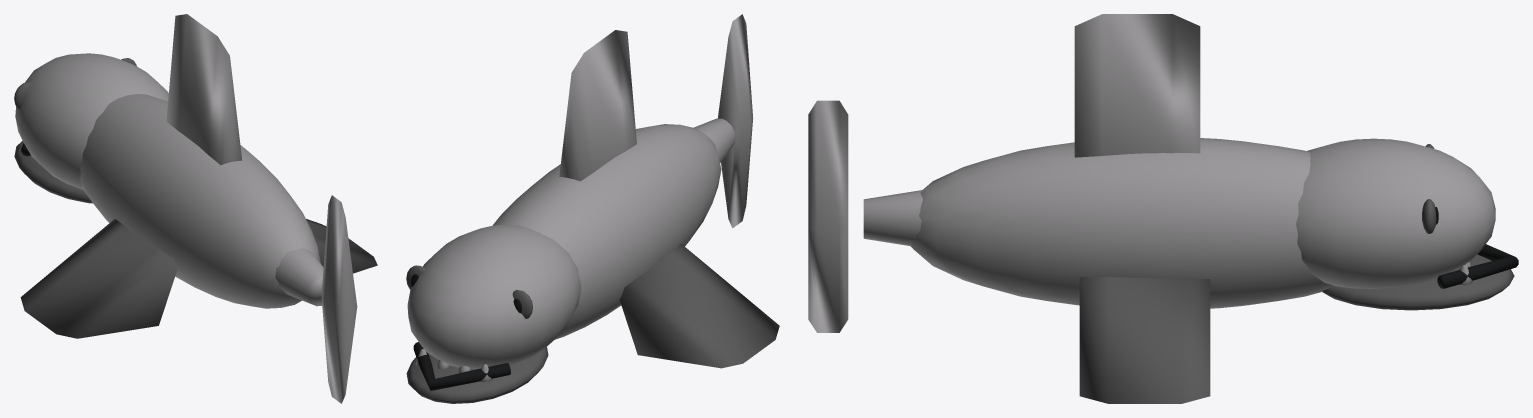
Rendered from Shark.glb.
3 views of the same model, side by side, from view 1: azimuth 30°, elevation 25°; view 2: azimuth 150°, elevation 25°; view 3: azimuth 270°, elevation 25° (orthographic). The views are drawn at different scales.
Visible parts, largest first — view 1: Body, LeftFin, Head, Fin, Tail, Jaw, RightFin; view 2: Body, Head, LeftFin, Fin, Tail, Jaw; view 3: Body, Head, Fin, RightFin, Tail, Jaw.
Part boxes in pixels (x1,y1,x2,y2): Body: (80,94,320,308); LeftFin: (20,219,177,338); Head: (14,53,168,189); Fin: (166,14,242,165); Tail: (275,195,357,403); Jaw: (14,141,92,203); RightFin: (306,219,377,273); Body: (493,124,721,339); Head: (406,224,581,369); LeftFin: (619,243,779,368); Fin: (559,30,636,181); Tail: (694,14,753,228); Jaw: (406,342,548,403); Body: (910,138,1333,308); Head: (1296,138,1495,288); Fin: (1074,14,1200,157); RightFin: (1079,277,1210,403); Tail: (808,100,922,332); Jaw: (1322,244,1518,310).
Size of the model in its own units: 0.8702 by 0.7252 by 1.46.
1 material, 1 textured.
